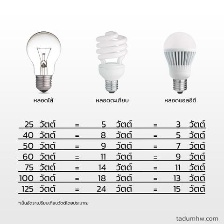light_bulb: (22, 28, 64, 94), (161, 28, 199, 97), (92, 27, 129, 96)
